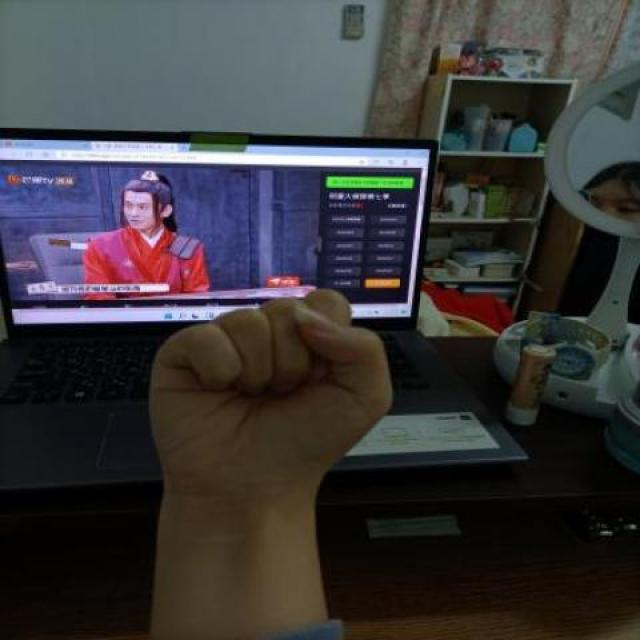Closed Hand: (133, 280, 410, 492)
